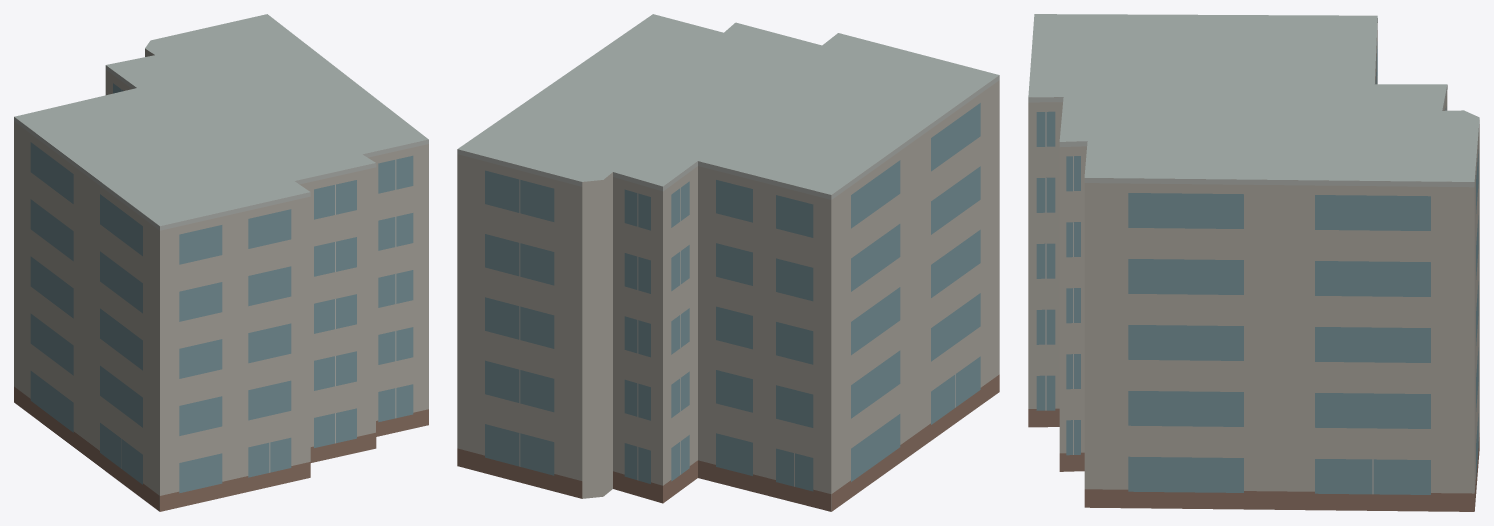
Rendered from survey-upis-32683888.glb.
3 views of the same model, side by side, from view 1: azimuth 30°, elevation 25°; view 2: azimuth 150°, elevation 25°; view 3: azimuth 270°, elevation 25° (orthographic). The views are drawn at different scales.
Parts seen in each view (by area): view 1: survey-upis-32683888.tmp; view 2: survey-upis-32683888.tmp; view 3: survey-upis-32683888.tmp.
Part boxes in pixels (bbox=[...]): survey-upis-32683888.tmp: bbox=[14, 14, 428, 511]; survey-upis-32683888.tmp: bbox=[457, 14, 999, 511]; survey-upis-32683888.tmp: bbox=[1028, 14, 1479, 511].
Bounding box in the file's own units: 17 × 15.55 × 19.29.
